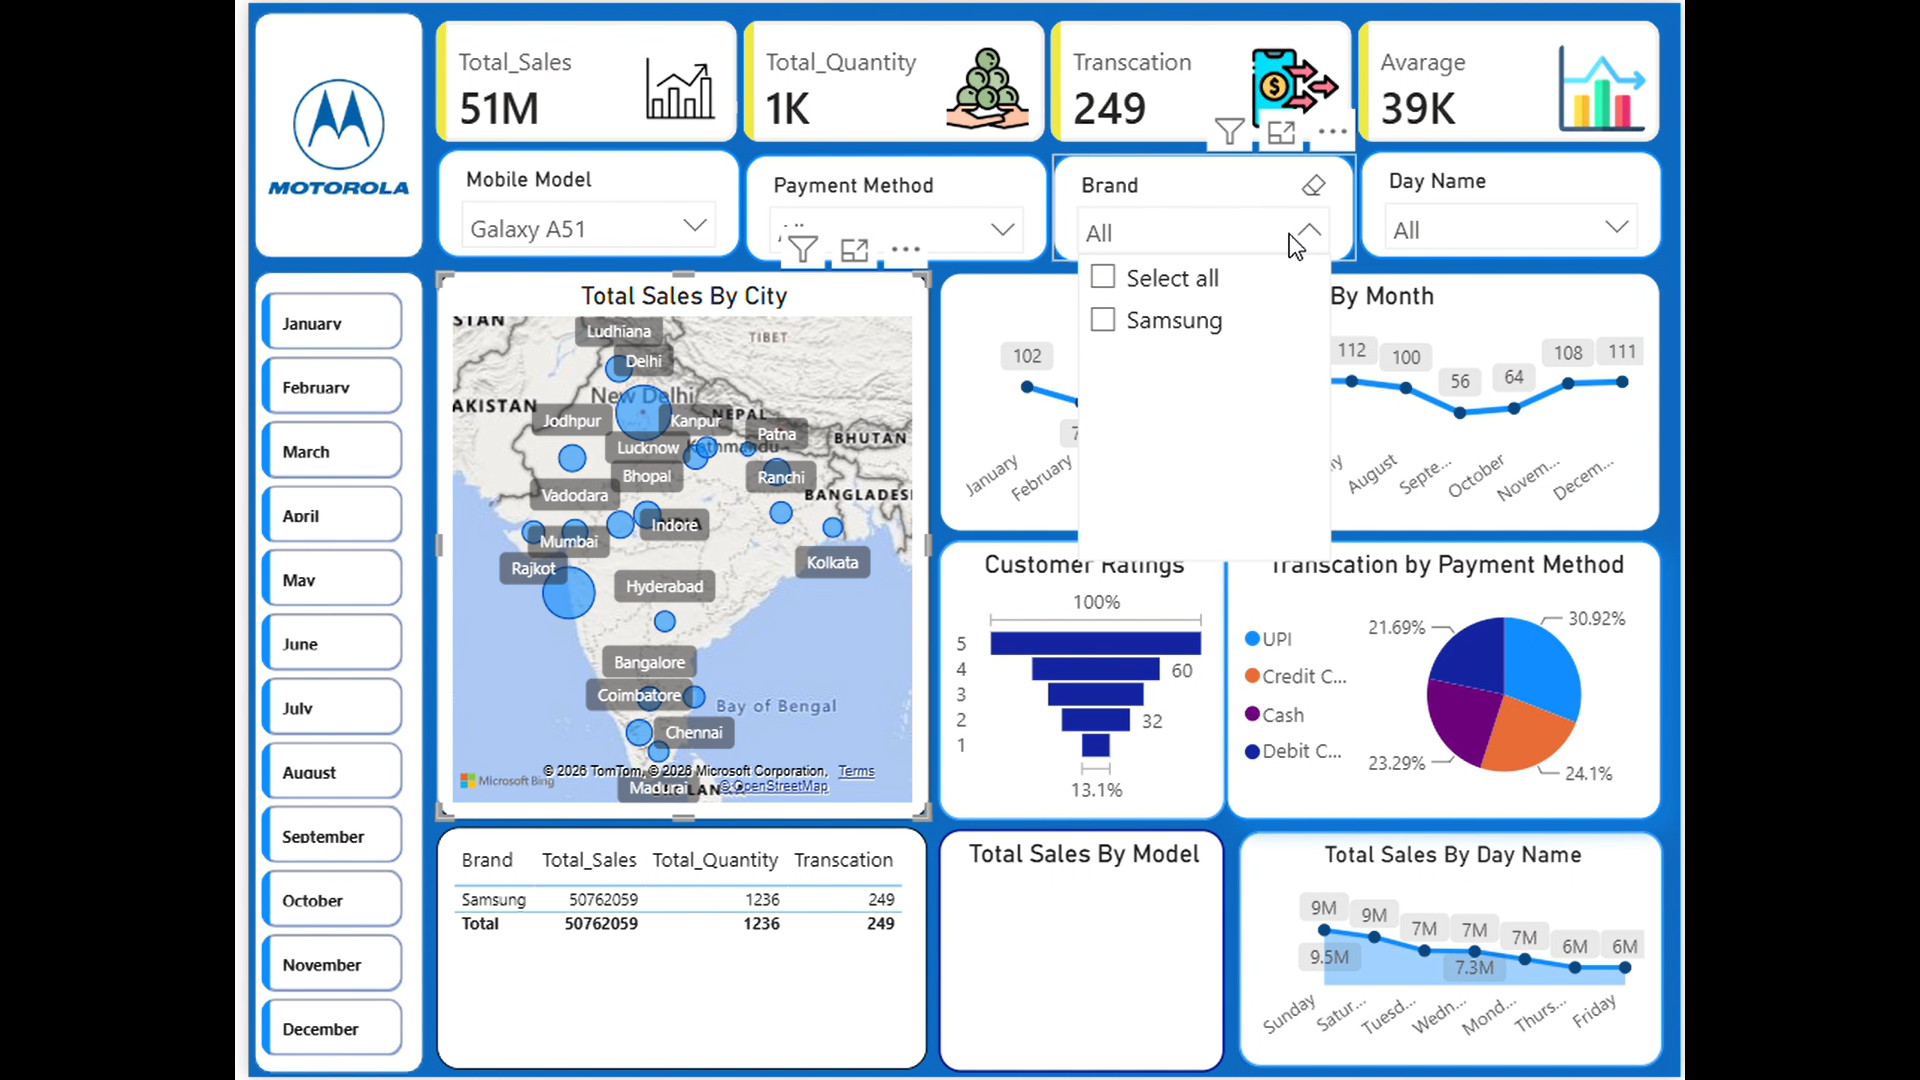

The dashboard page shown, as its layout file describes it:
{"tool":"powerbi","page":{"name":"Page 1","canvas":[960,720],"ordinal":0},"visuals":[{"type":"shape","box":[3.8,6.2,113.8,165],"z":0},{"type":"image","box":[13,13,96,153],"z":1000},{"type":"shape","box":[3.8,180,113.8,537.5],"z":2000},{"type":"advancedSlicerVisual","fields":{"Values":["Custom_calender.Date.Variation.Date Hierarchy.Month"]},"box":[3.6,179.8,106.2,540.5],"z":3000},{"type":"cardVisual","fields":{"Data":["Sales_data.Total_Sales","Sales_data.Total_Quantity","Sales_data.Transcation","Sales_data.Avarage"]},"box":[108.8,0,851.2,112.5],"z":4000},{"type":"slicer","fields":{"Values":["Sales_data.Mobile Model"]},"box":[126.2,97.5,203.8,73.8],"z":5000},{"type":"slicer","fields":{"Values":["Sales_data.Payment Method"]},"box":[332.5,101.2,203.8,72.5],"z":6000},{"type":"slicer","fields":{"Values":["Sales_data.Brand"]},"box":[539,101,203,73],"z":7000},{"type":"slicer","fields":{"Values":["Custom_calender.Day Name"]},"box":[745,99,203,73],"z":8000},{"type":"map","title":"Total Sales By City","fields":{"Category":["Sales_data.City"],"Size":["Sales_data.Total_Sales"]},"box":[126.2,180,330,367.5],"z":9000},{"type":"tableEx","fields":{"Values":["Sales_data.Brand","Sales_data.Total_Sales","Sales_data.Total_Quantity","Sales_data.Transcation"]},"box":[126.2,552.5,328.8,162.5],"z":10000},{"type":"lineChart","title":"Total Quantity By Month","fields":{"Y":["Sales_data.Total_Quantity"],"Category":["Custom_calender.Date.Variation.Date Hierarchy.Month","Custom_calender.Date.Variation.Date Hierarchy.Day"]},"box":[462.5,180,485,175],"z":11000},{"type":"funnel","title":"Customer Ratings","fields":{"Category":["Sales_data.Customer Ratings"],"Y":["CountNonNull(Sales_data.Brand)"]},"box":[462.3,360,193.1,187.7],"z":12000},{"type":"stackedAreaChart","title":"Total Sales By Day Name","fields":{"Y":["Sales_data.Total_Sales"],"Category":["Custom_calender.Day Name"]},"box":[663.8,554.6,284.6,158.5],"z":13000},{"type":"hundredPercentStackedBarChart","title":"Total Sales By Model","fields":{"Category":["Sales_data.Mobile Model"],"Y":["Sales_data.Total_Sales"]},"box":[462.3,553.8,192.3,163.1],"z":14000},{"type":"pieChart","fields":{"Y":["Sales_data.Transcation"],"Category":["Sales_data.Payment Method"]},"box":[663.5,359.5,284.7,188.2],"z":15000}]}

Visuals, with their boxes in screenshot pixels (x1, y1, x2, y2):
shape: Rect(251, 9, 419, 253)
image: Rect(264, 19, 406, 246)
shape: Rect(251, 266, 419, 1061)
advancedSlicerVisual - Custom_calender.Date.Variation.Date Hierarchy.Month: Rect(250, 266, 407, 1066)
cardVisual - Sales_data.Total_Sales x Sales_data.Total_Quantity: Rect(406, 0, 1665, 166)
slicer - Sales_data.Mobile Model: Rect(432, 144, 733, 253)
slicer - Sales_data.Payment Method: Rect(737, 150, 1038, 257)
slicer - Sales_data.Brand: Rect(1042, 149, 1343, 257)
slicer - Custom_calender.Day Name: Rect(1347, 146, 1647, 254)
"Total Sales By City" map: Rect(432, 266, 920, 810)
tableEx - Sales_data.Brand x Sales_data.Total_Sales: Rect(432, 817, 918, 1058)
"Total Quantity By Month" lineChart: Rect(929, 266, 1647, 525)
"Customer Ratings" funnel: Rect(929, 533, 1215, 810)
"Total Sales By Day Name" stackedAreaChart: Rect(1227, 820, 1648, 1055)
"Total Sales By Model" hundredPercentStackedBarChart: Rect(929, 819, 1213, 1060)
pieChart - Sales_data.Transcation x Sales_data.Payment Method: Rect(1226, 532, 1648, 810)
